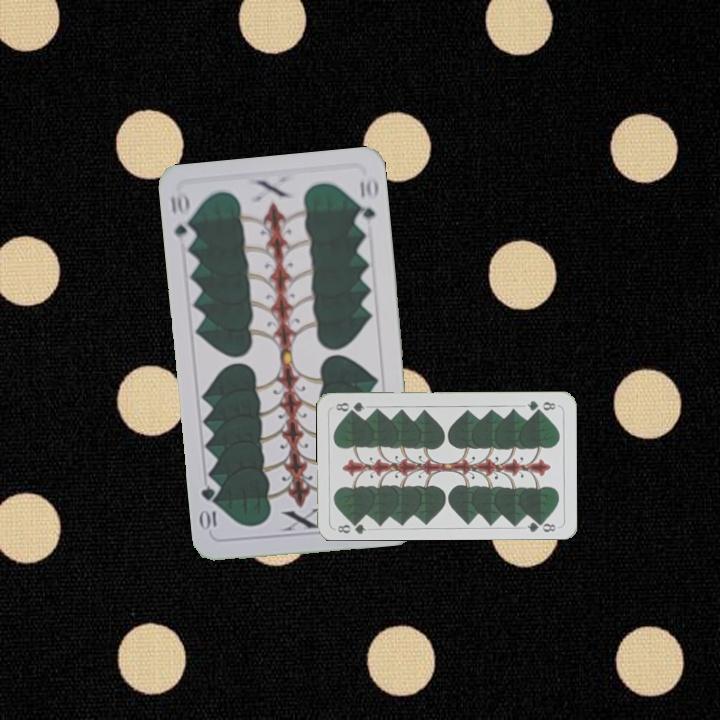G10: (166, 189, 197, 247)
G8: (334, 516, 368, 536), (523, 396, 558, 414)
